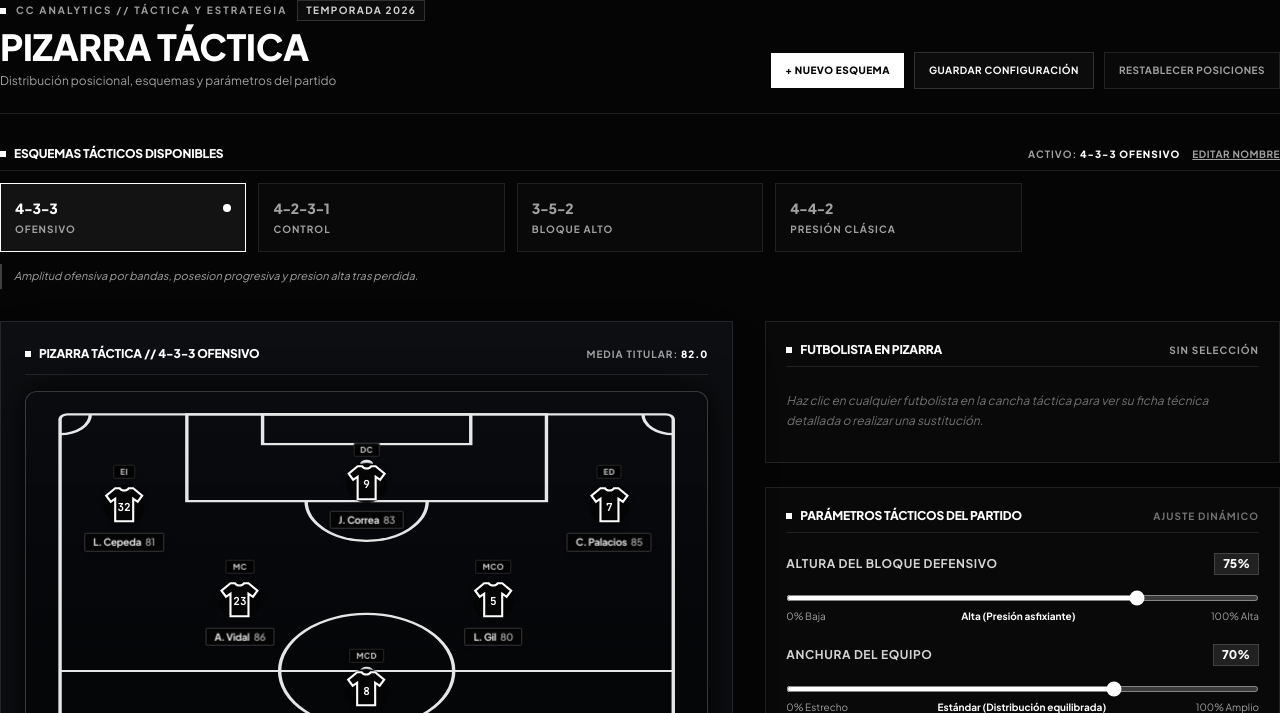
it: Módulo de Pizarra Táctica y Formaciones (Pantalla 5) › permite crear un nuevo esquema tactico personalizado y seleccionarlo
# abrir modal de nuevo esquema
Click the button "+ Nuevo Esquema" at (838, 70), box x1=771 y1=53 x2=904 y2=88
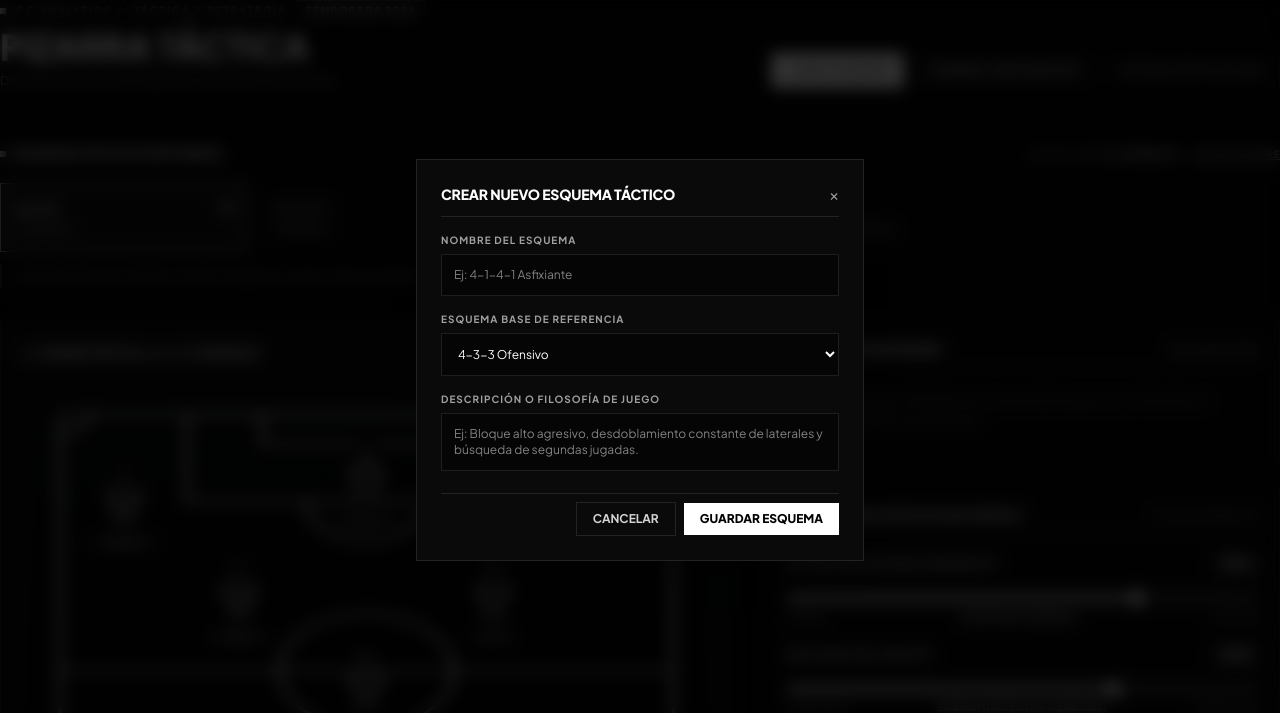
# ingresar nombre
Type "4-1-4-1 Asfixiante" into the field labelled "Nombre del Esquema" at (640, 275), box x1=441 y1=254 x2=839 y2=296
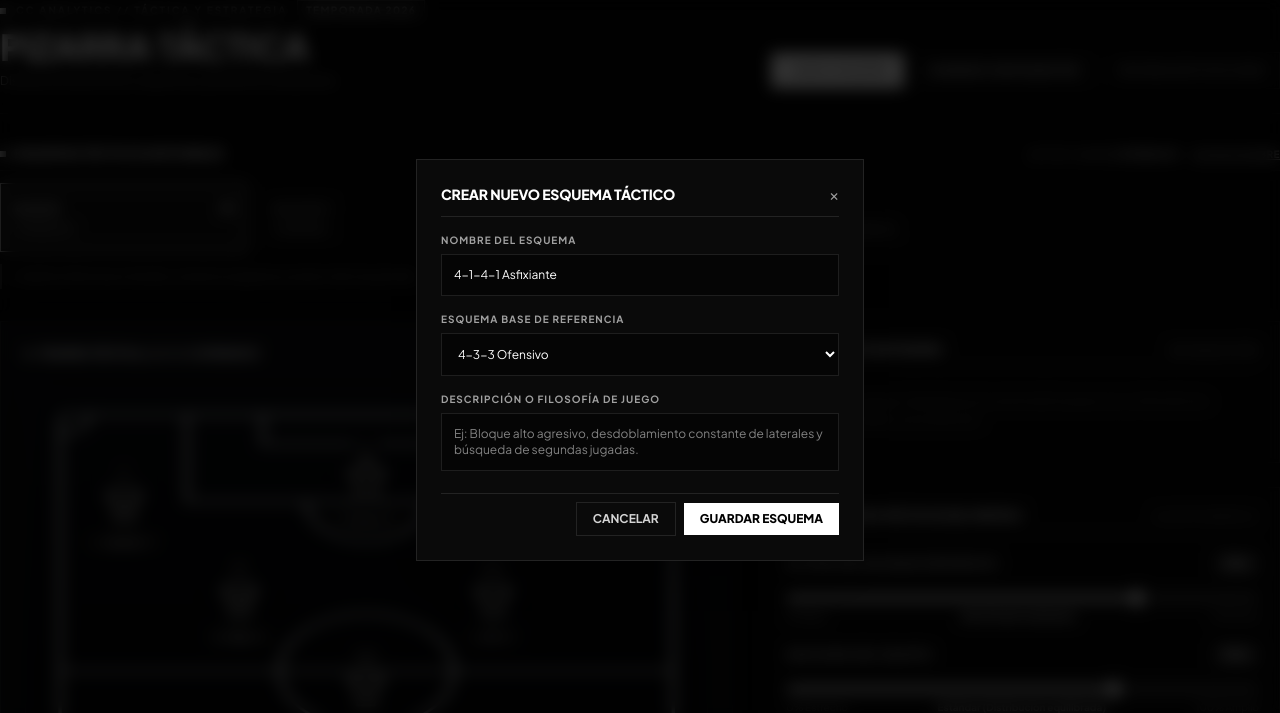
# guardar esquema
Click the button "Guardar Esquema" at (761, 519), box x1=684 y1=503 x2=839 y2=535
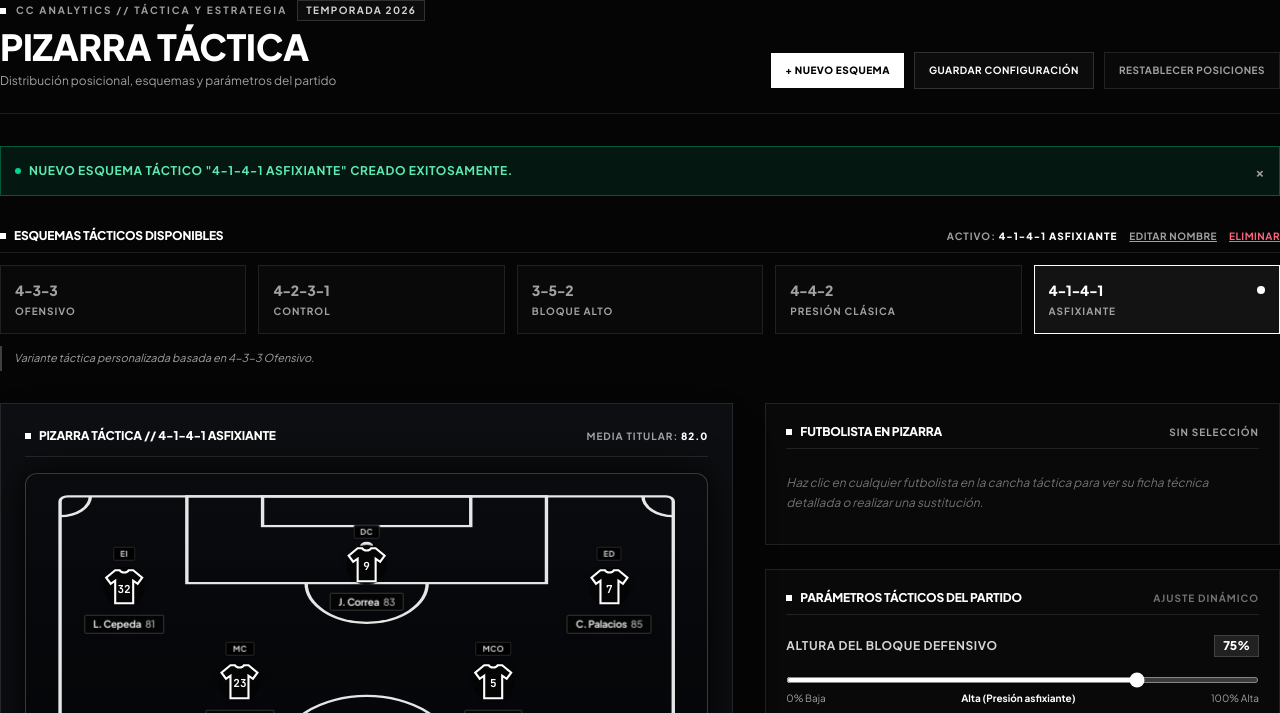
Expected: the text "Nuevo esquema táctico \"4-1-4-1 Asfixiante\" creado exitosamente" is shown, x1=29 y1=163 x2=513 y2=178
